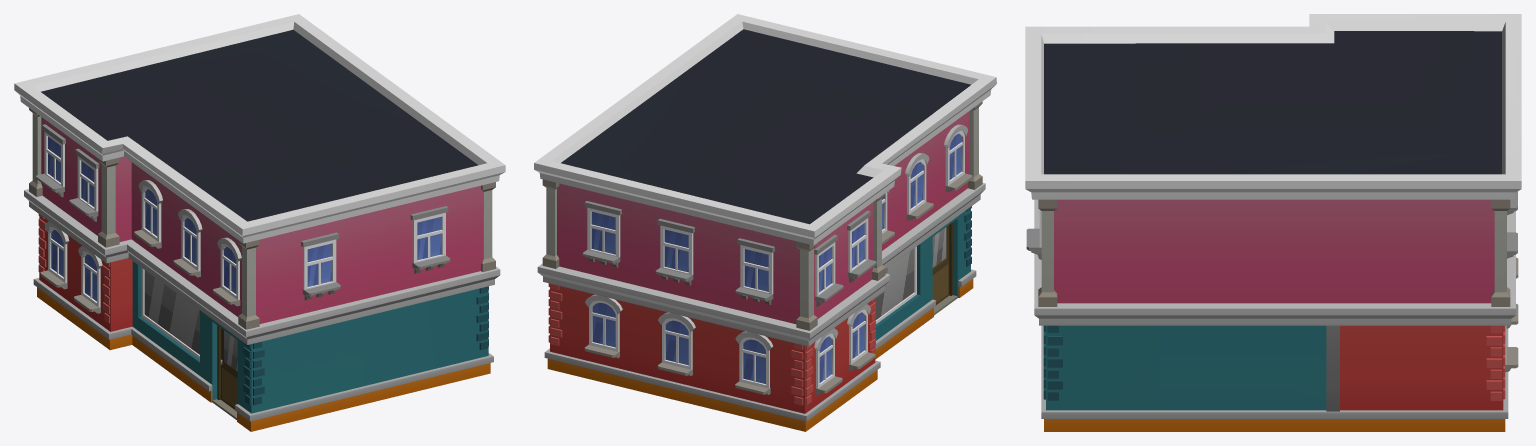
The model's file is Building_1_H.fbx.
3 views of the same model, side by side, from view 1: azimuth 30°, elevation 25°; view 2: azimuth 150°, elevation 25°; view 3: azimuth 270°, elevation 25° (orthographic). The views are drawn at different scales.
Visible parts, largest first — view 1: Building_1_H; view 2: Building_1_H; view 3: Building_1_H.
Boxes of the visible parts, x1,y1,x2,y2 form: Building_1_H: [14, 14, 505, 431]; Building_1_H: [534, 14, 996, 431]; Building_1_H: [1025, 14, 1521, 431].
Bounding box in the file's own units: 841 × 600 × 1057.
